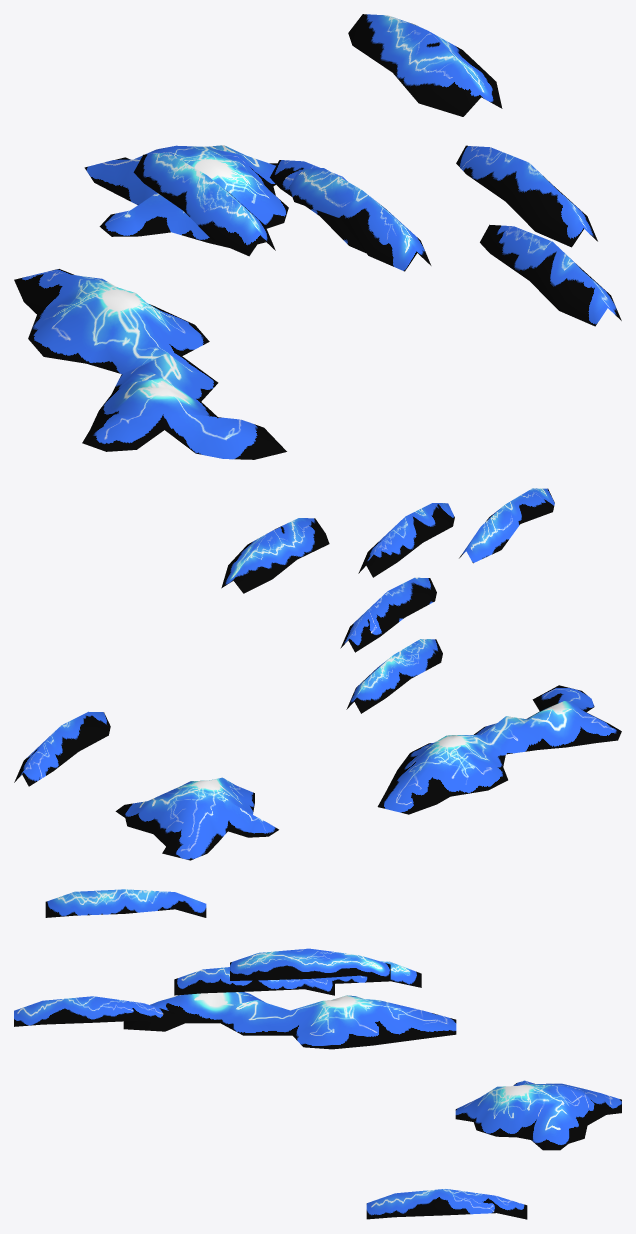
3 views of the same model, one above another, from view 1: azimuth 30°, elevation 25°; view 2: azimuth 150°, elevation 25°; view 3: azimuth 270°, elevation 25° (orthographic). The views are drawn at different scales.
Parts seen in each view (by area): view 1: SM_fx_00, SM_fx_01, SM_fx_05, SM_fx_06, SM_fx_03, SM_fx_04, SM_fx_07, SM_fx_02; view 2: SM_fx_00, SM_fx_01, SM_fx_05, SM_fx_02, SM_fx_04, SM_fx_03, SM_fx_06, SM_fx_07; view 3: SM_fx_00, SM_fx_01, SM_fx_05, SM_fx_04, SM_fx_03, SM_fx_07, SM_fx_02, SM_fx_06.
Boxes of the visible parts, <box> form: SM_fx_00: <box>14,269,286,459</box>; SM_fx_01: <box>84,145,288,247</box>; SM_fx_05: <box>348,14,502,116</box>; SM_fx_06: <box>133,152,275,256</box>; SM_fx_03: <box>480,224,621,326</box>; SM_fx_04: <box>456,145,597,247</box>; SM_fx_07: <box>289,168,431,271</box>; SM_fx_02: <box>270,160,365,252</box>; SM_fx_00: <box>377,685,621,814</box>; SM_fx_01: <box>115,777,278,860</box>; SM_fx_05: <box>221,518,329,593</box>; SM_fx_02: <box>340,577,436,652</box>; SM_fx_04: <box>14,711,110,786</box>; SM_fx_03: <box>358,503,454,577</box>; SM_fx_06: <box>346,639,442,713</box>; SM_fx_07: <box>459,488,554,563</box>; SM_fx_00: <box>123,992,456,1049</box>; SM_fx_01: <box>455,1080,621,1150</box>; SM_fx_05: <box>230,948,390,980</box>; SM_fx_04: <box>366,1189,527,1219</box>; SM_fx_03: <box>14,996,174,1026</box>; SM_fx_07: <box>45,889,206,917</box>; SM_fx_02: <box>174,967,334,995</box>; SM_fx_06: <box>324,961,421,987</box>.
Size of the model in its own units: 611 by 267 by 731.
